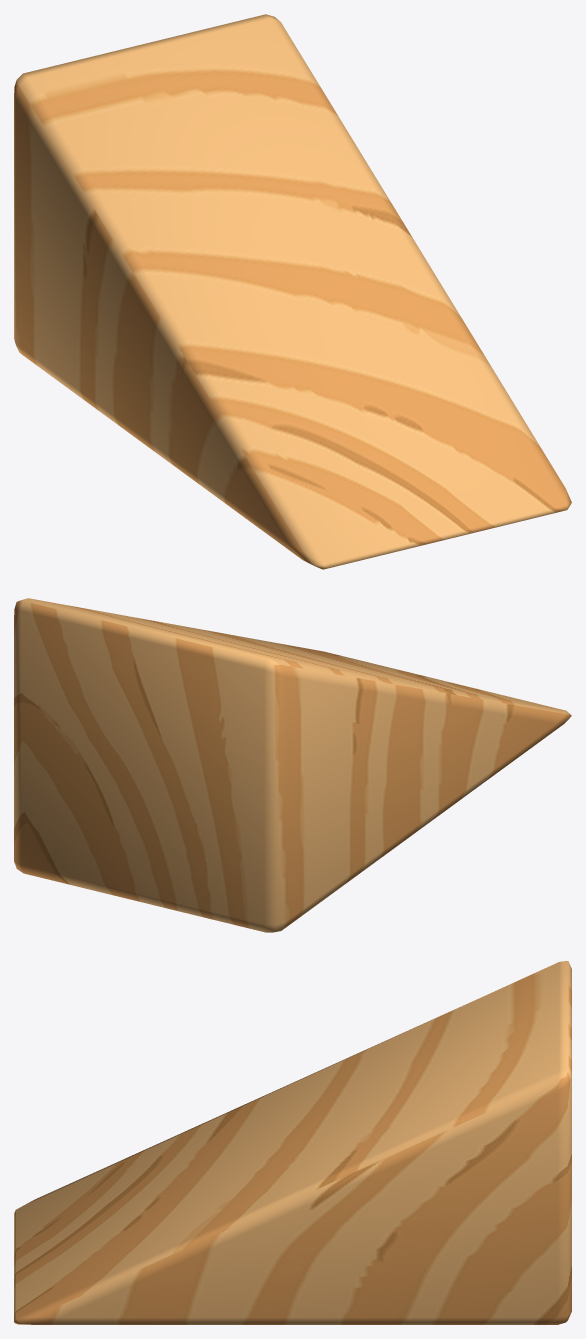
File: TriangleShort.fbx
3 renders of one model, top to bottom at view 1: azimuth 30°, elevation 25°; view 2: azimuth 150°, elevation 25°; view 3: azimuth 270°, elevation 25°, orthographic. The views are drawn at different scales.
Parts seen in each view (by area): view 1: TriangleShort; view 2: TriangleShort; view 3: TriangleShort.
Part boxes in pixels (x1,y1,x2,y2): TriangleShort: (14,14,571,569); TriangleShort: (14,598,571,932); TriangleShort: (14,961,571,1324).
Size of the model in its own units: 12.54 by 12.29 by 24.43.
